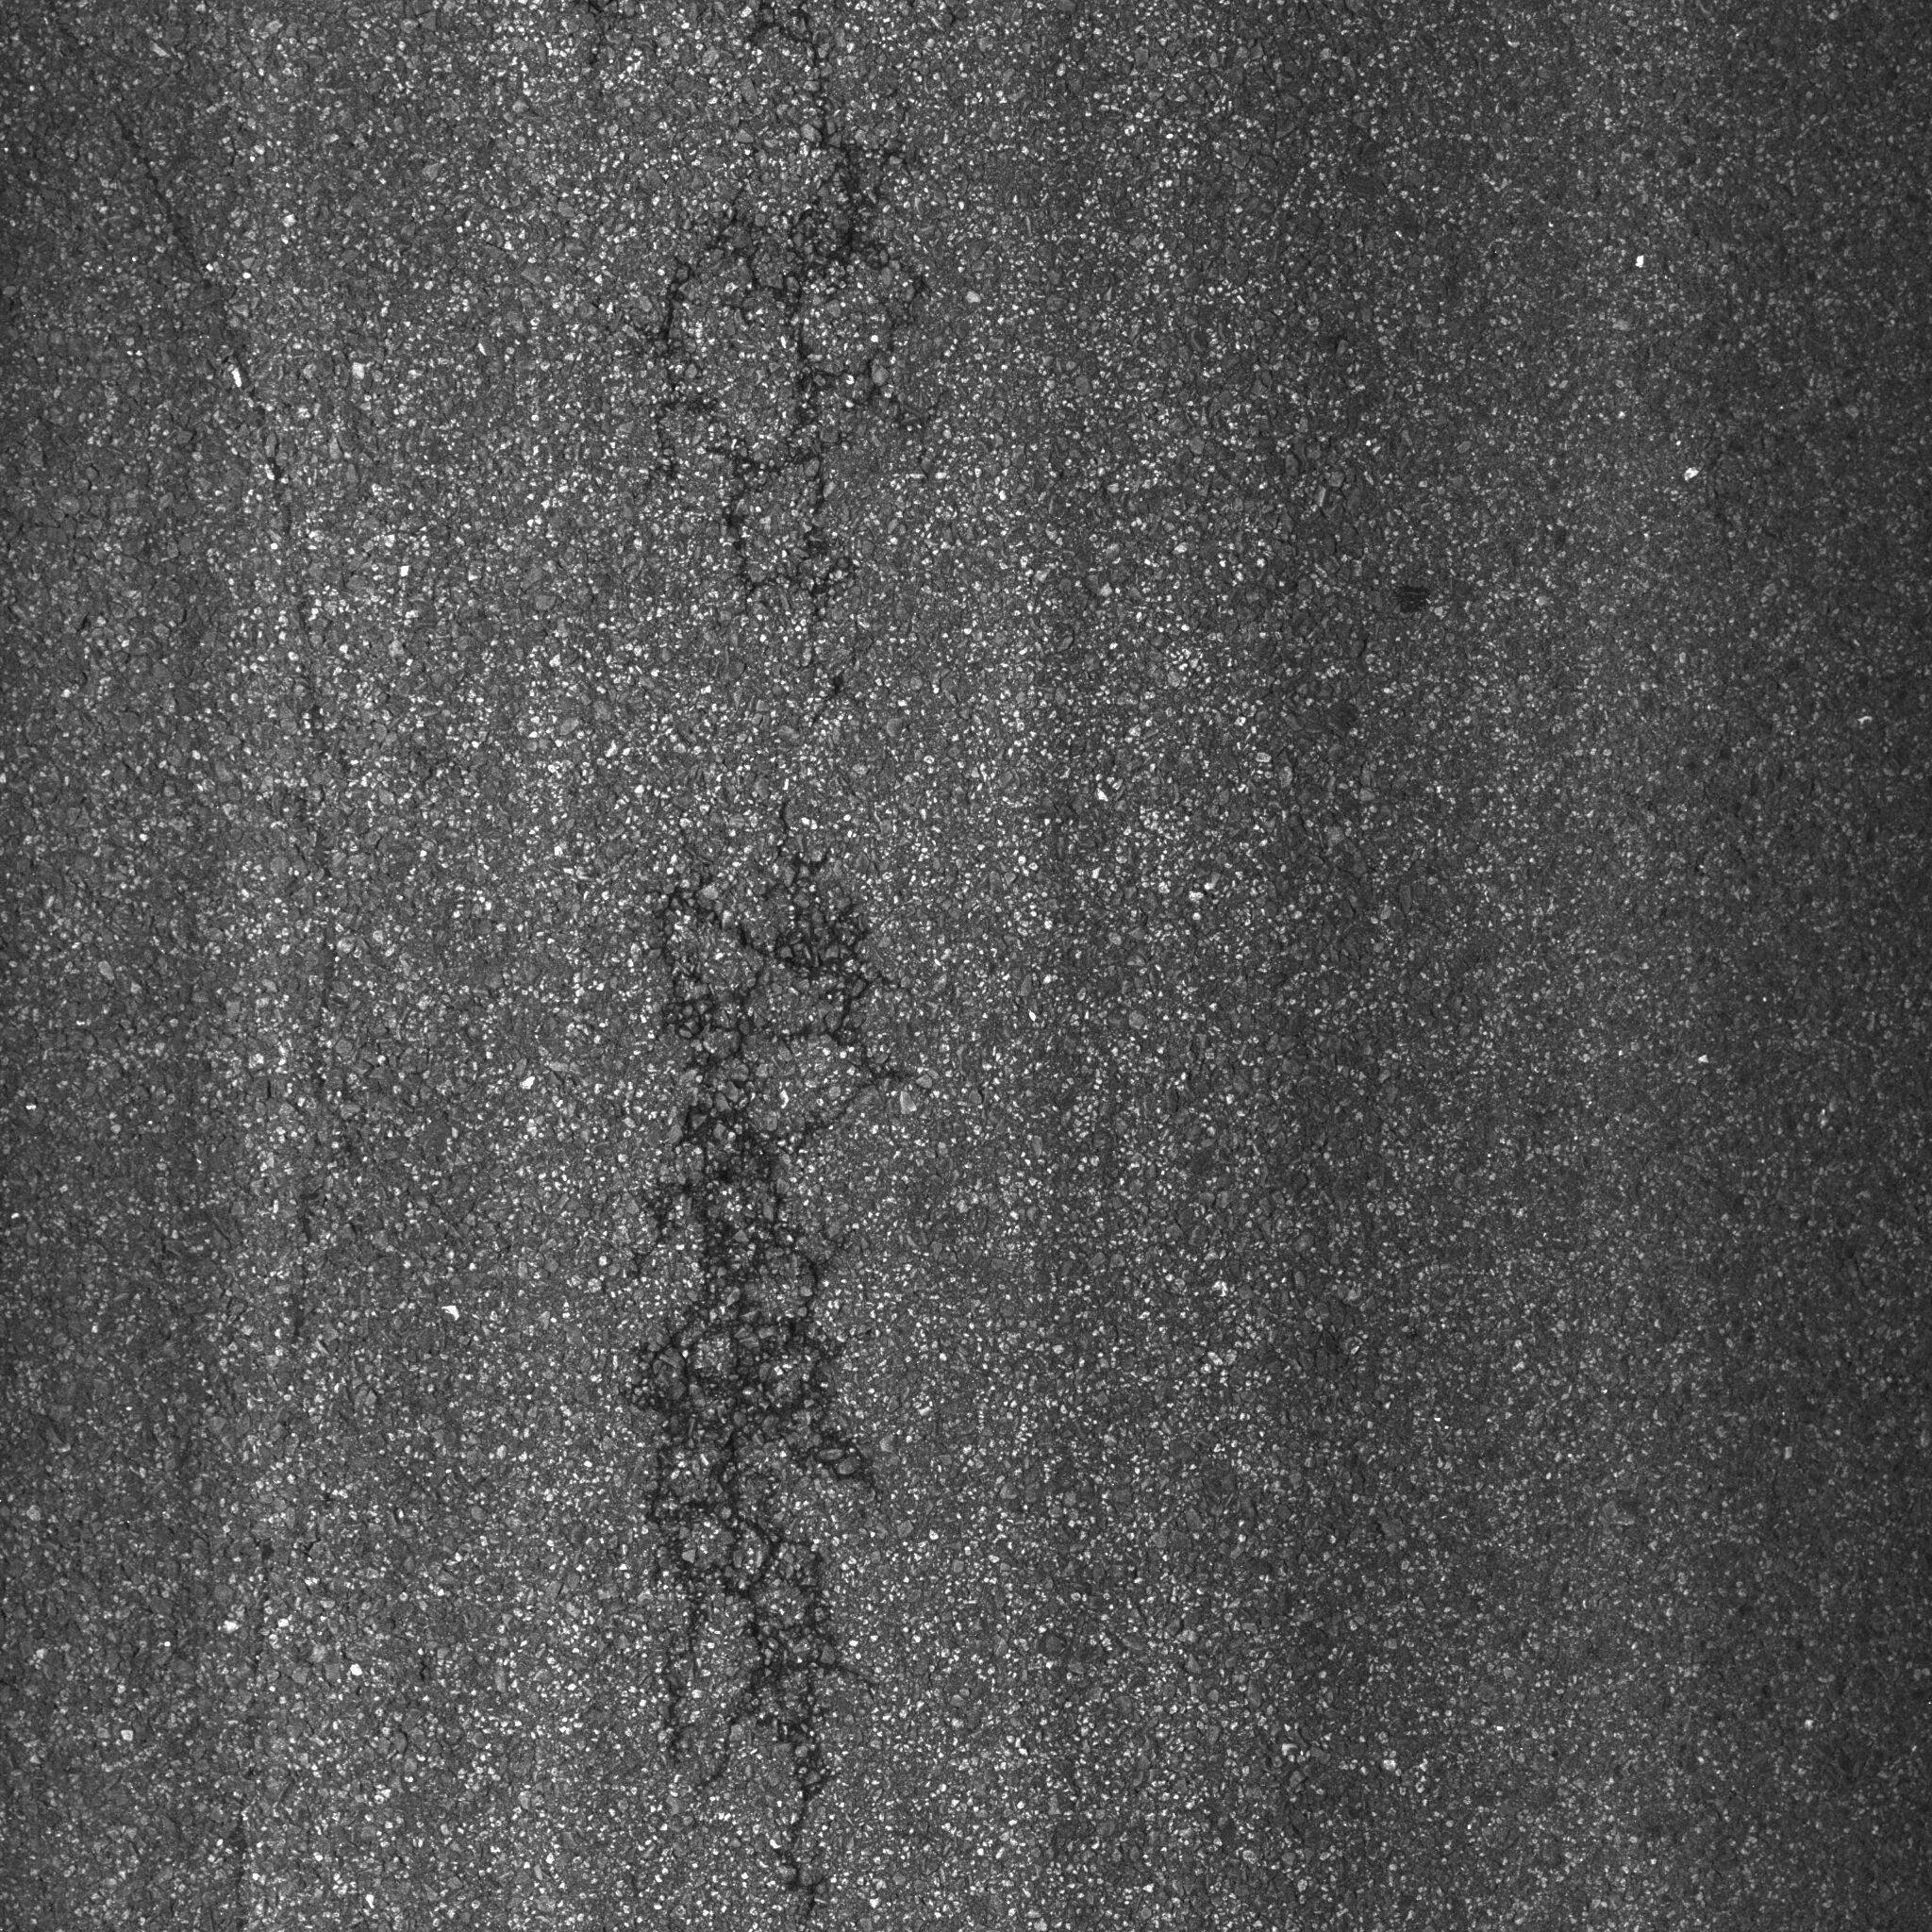alligator: (541, 777, 1083, 1932), (529, 16, 1014, 745)
